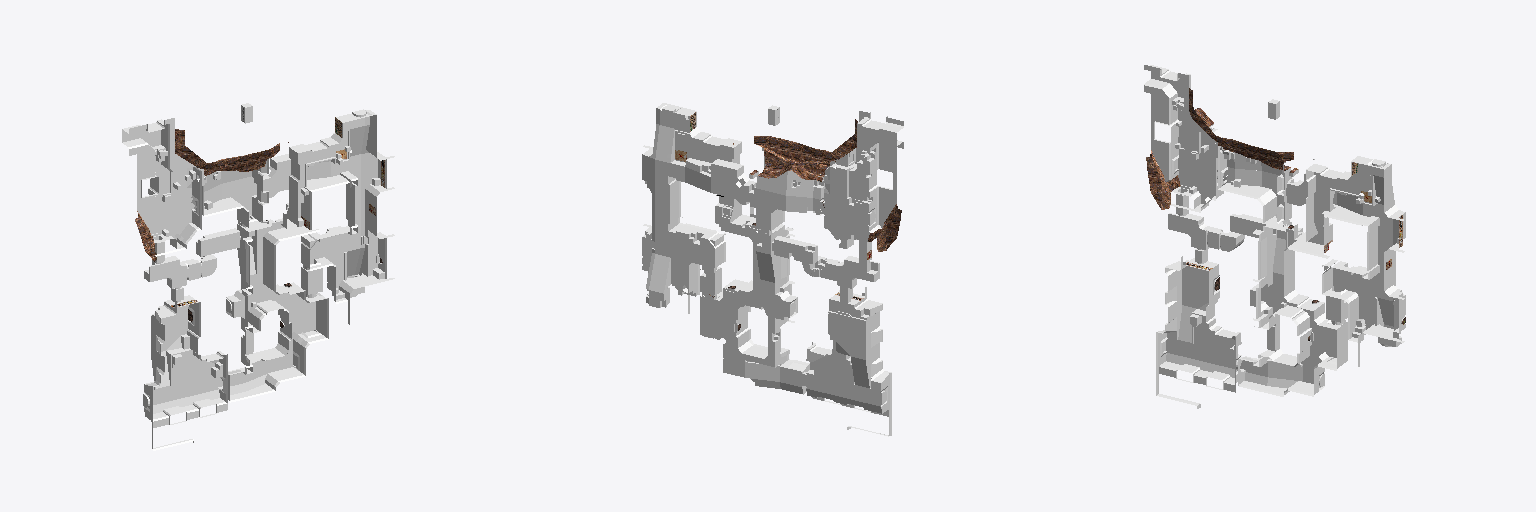
3 renders of one model, left to right at view 1: azimuth 30°, elevation 25°; view 2: azimuth 150°, elevation 25°; view 3: azimuth 330°, elevation 25°, orthographic.
Parts seen in each view (by area): view 1: BSP_Object.model_0.008; view 2: BSP_Object.model_0.008; view 3: BSP_Object.model_0.008.
Part boxes in pixels (bbox=[...]): BSP_Object.model_0.008: bbox=[122, 103, 394, 450]; BSP_Object.model_0.008: bbox=[642, 103, 903, 436]; BSP_Object.model_0.008: bbox=[1144, 65, 1405, 408].
Size of the model in its own units: 112 by 133 by 15.2.
Materials: 34 (13 with a texture image).